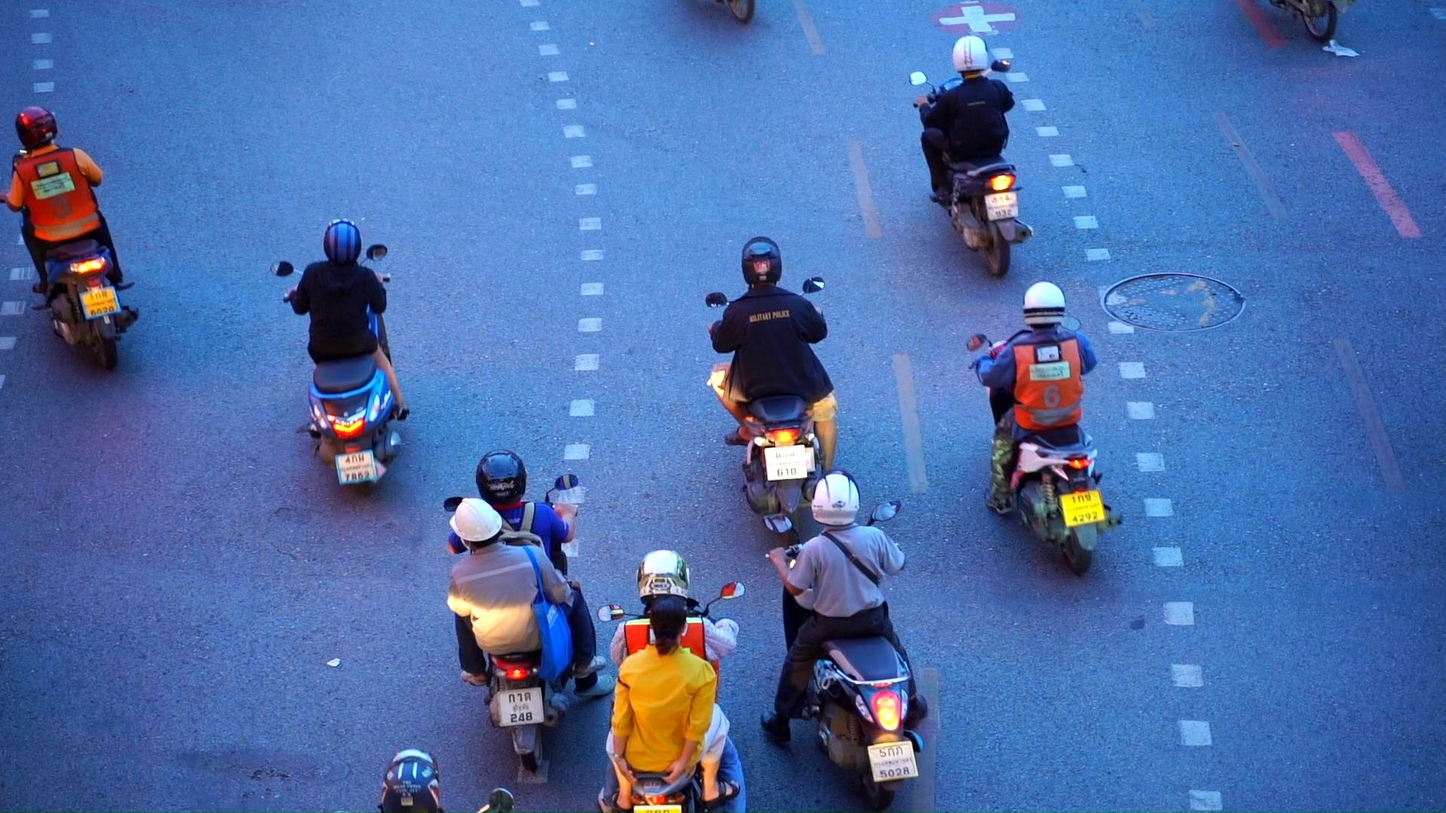driver: (762, 468, 928, 813), (444, 450, 614, 772), (965, 279, 1124, 576), (706, 235, 838, 545), (597, 548, 747, 813), (270, 219, 410, 496), (0, 105, 139, 371), (909, 34, 1034, 278), (376, 748, 514, 813)
helmet: (377, 749, 445, 813), (636, 549, 690, 605), (449, 498, 502, 555), (811, 468, 861, 527), (476, 449, 527, 506), (741, 236, 782, 289), (1023, 278, 1067, 326), (15, 105, 58, 150), (323, 219, 362, 267), (952, 34, 988, 73)
no-helmet: (650, 596, 689, 657)
